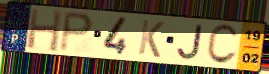4: (101, 14, 131, 58)
C: (205, 23, 241, 67)
H: (26, 7, 64, 54)
J: (175, 23, 205, 61)
K: (136, 18, 167, 60)
P: (57, 10, 96, 54)
